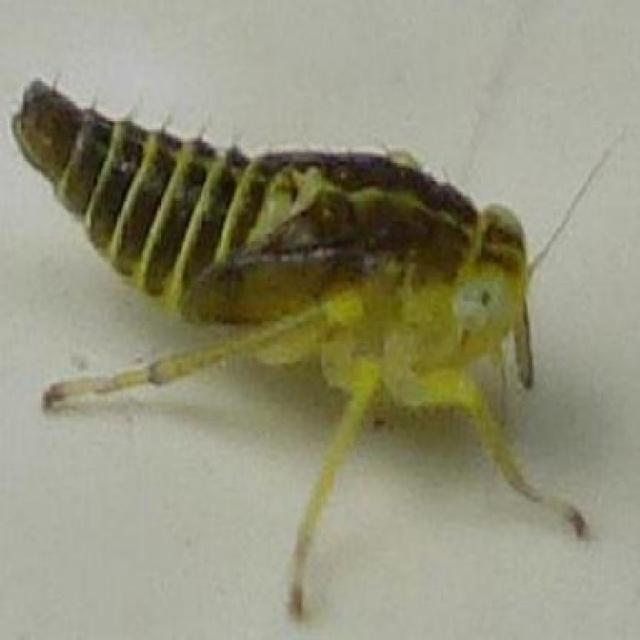green-leafhopper: (17, 63, 540, 488)
